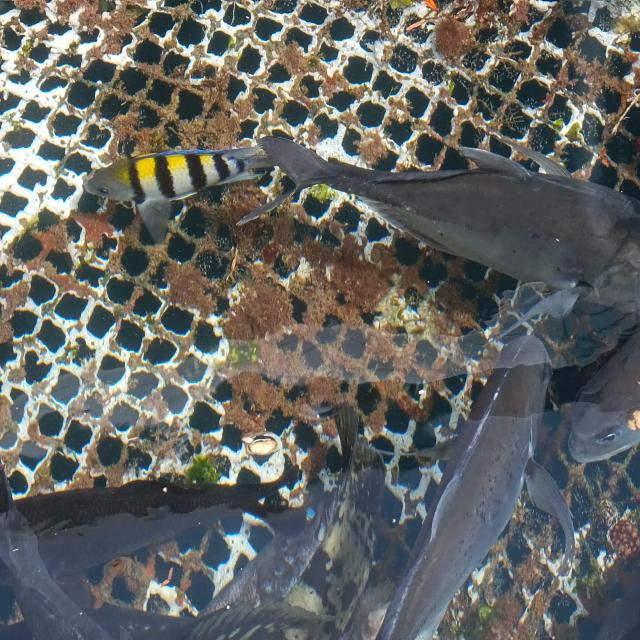ikan: (391, 341, 571, 636), (361, 146, 640, 314), (82, 142, 286, 245), (566, 310, 640, 452)
